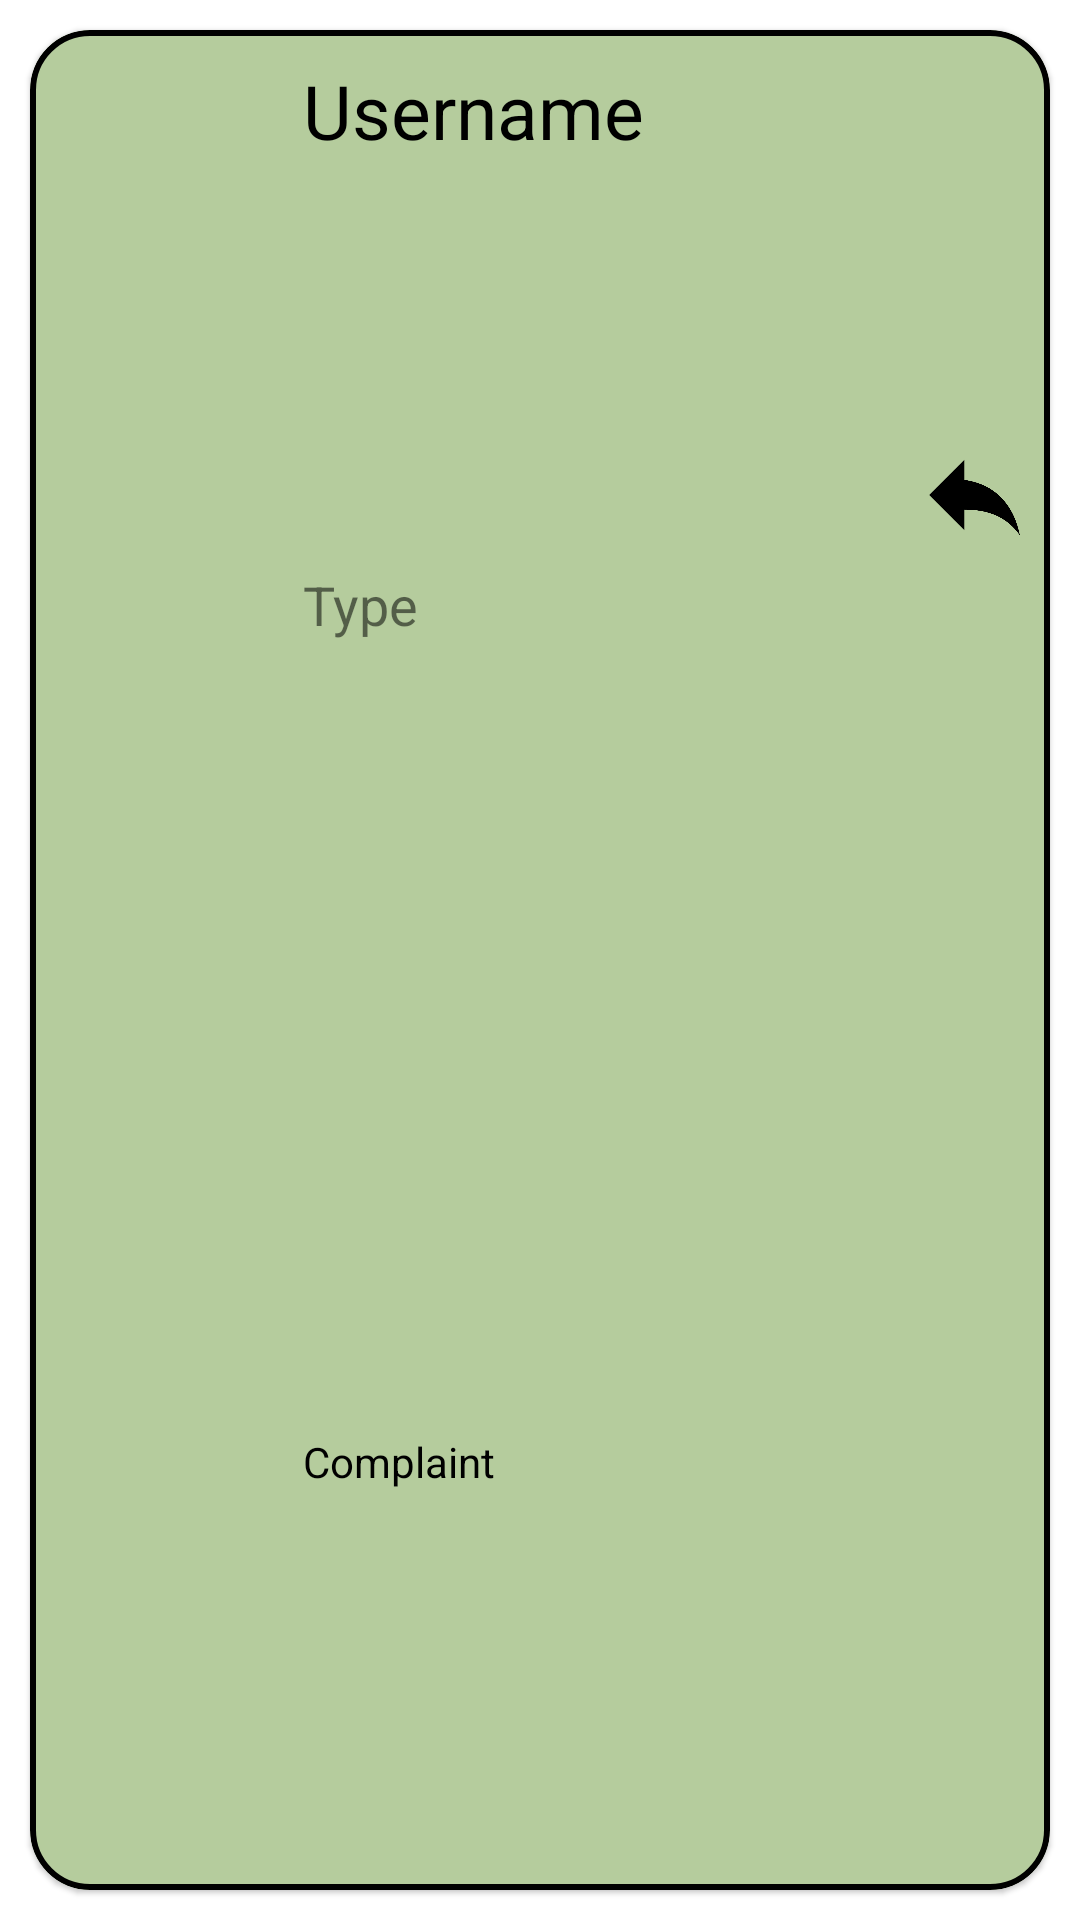

Icon click points for this 1080 x 1920 phone screenshot, format (x=x, y=y):
reply: (x=974, y=497)
